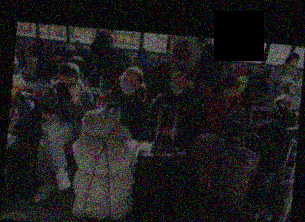with_mask: (118, 74, 139, 95), (169, 79, 186, 97), (58, 76, 74, 92), (139, 49, 145, 55)
without_mask: (221, 84, 237, 100), (278, 94, 294, 109), (288, 57, 299, 67), (196, 41, 202, 50), (56, 42, 62, 49), (16, 37, 23, 43), (33, 38, 38, 46), (248, 63, 253, 69), (227, 61, 232, 67), (119, 51, 124, 57), (75, 43, 80, 49), (216, 59, 221, 64), (179, 43, 183, 49)
